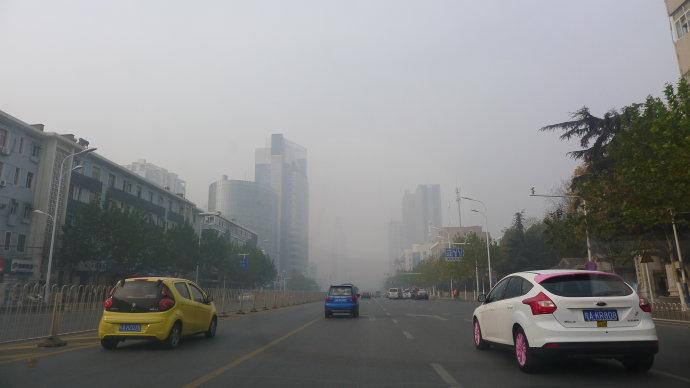car: (472, 261, 659, 372), (98, 276, 218, 349), (324, 283, 360, 318), (238, 291, 257, 302), (415, 288, 429, 300), (388, 288, 401, 300), (400, 288, 411, 299), (362, 291, 370, 299), (374, 290, 381, 299)
